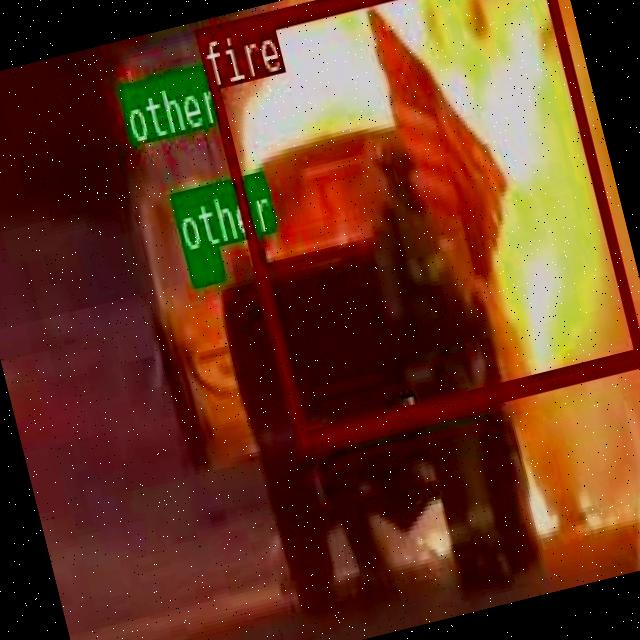fire: (193, 0, 640, 446)
